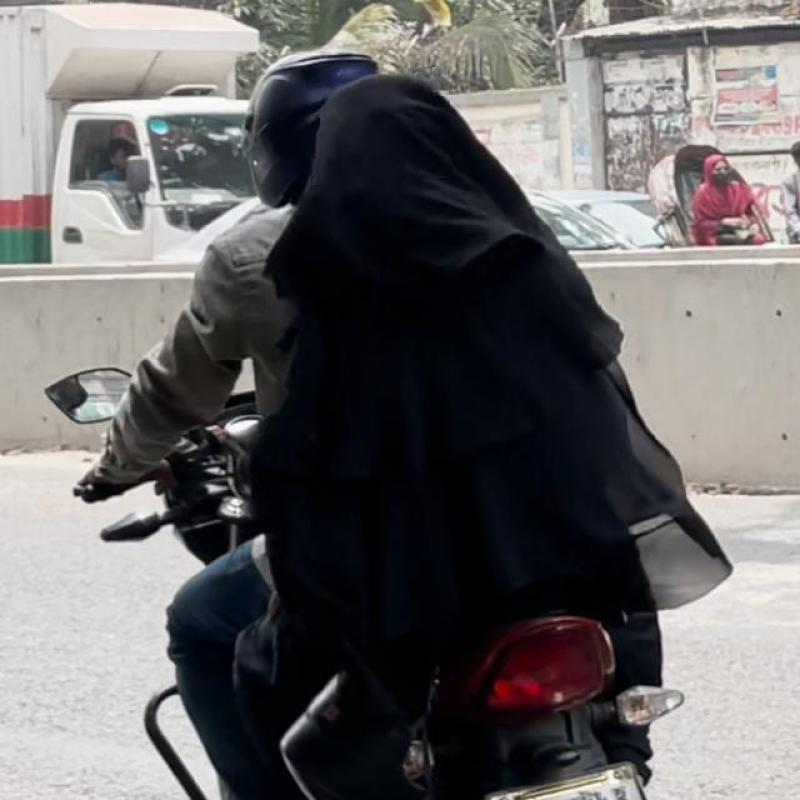nohelmet: (307, 68, 452, 184)
